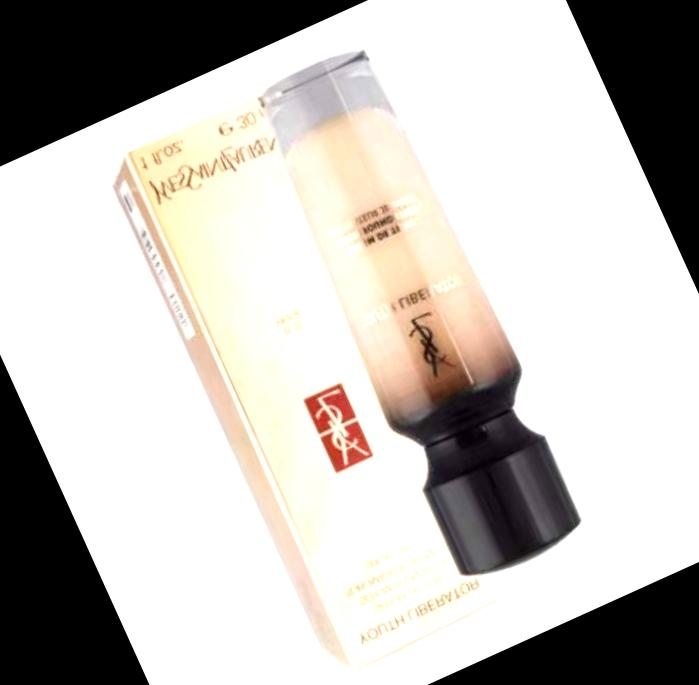cosmetic: (239, 37, 592, 581)
